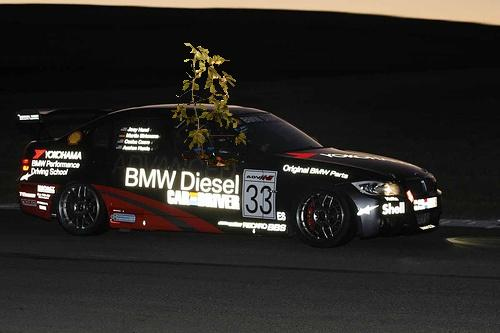tampered: (172, 44, 246, 170)
